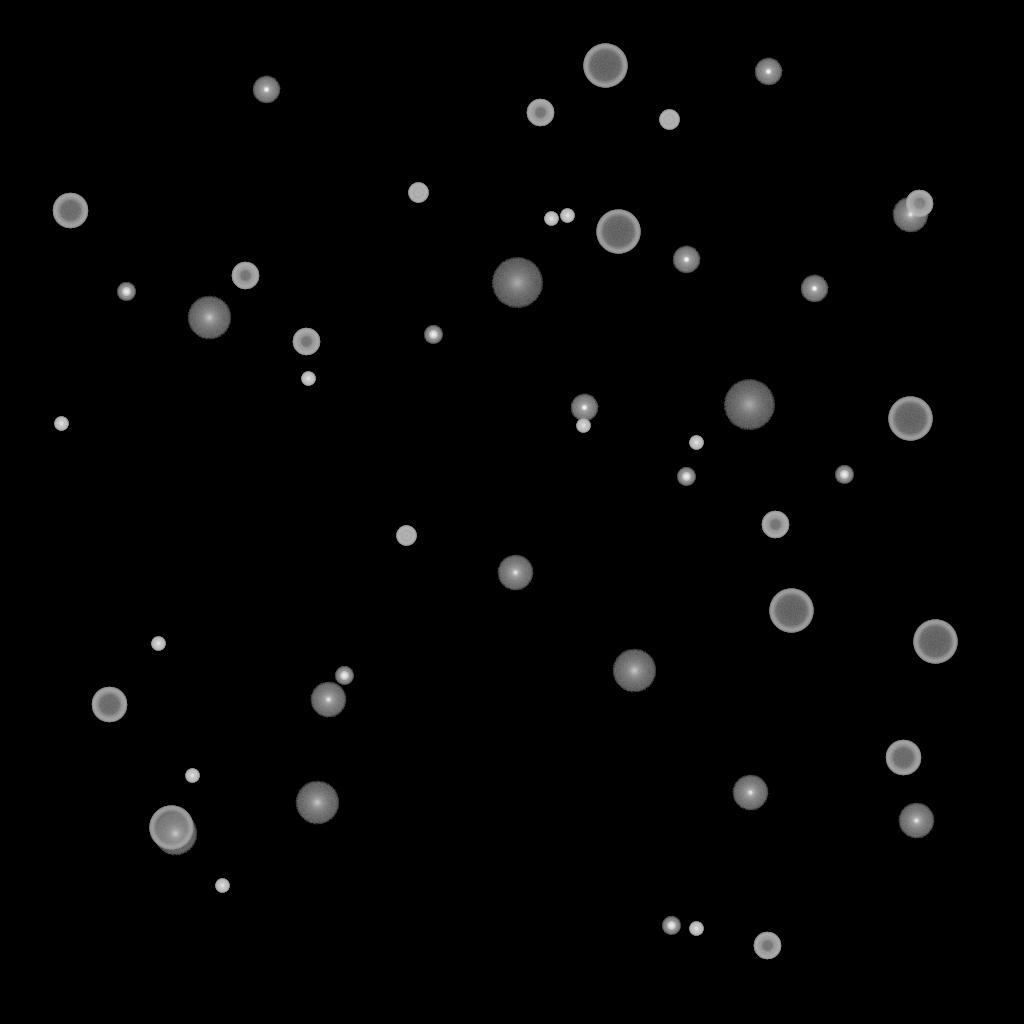depth:-10: (570, 394, 598, 422), (800, 275, 828, 303), (252, 76, 280, 104), (754, 58, 782, 86), (672, 246, 700, 274)
depth:-20: (335, 667, 353, 685), (677, 468, 695, 486), (424, 326, 442, 344), (662, 917, 680, 935), (117, 283, 135, 301), (835, 466, 853, 484)
depth:-30: (215, 879, 229, 893), (301, 372, 315, 386), (689, 922, 703, 936), (544, 212, 558, 226), (185, 769, 199, 783), (560, 209, 574, 223), (576, 419, 590, 433), (151, 637, 165, 651), (54, 417, 68, 431), (689, 436, 703, 450)
depth:-40: (408, 183, 428, 203), (659, 110, 679, 130), (396, 526, 416, 546)
depth:-50: (753, 932, 781, 960), (292, 328, 320, 356), (231, 262, 259, 290), (761, 511, 789, 539), (905, 190, 933, 218), (526, 99, 554, 127)
depth:-60: (885, 740, 921, 776), (52, 193, 88, 229), (91, 687, 127, 723)
depth:-70: (769, 589, 813, 633), (596, 210, 640, 254), (583, 44, 627, 88), (888, 397, 932, 441), (149, 806, 193, 850), (913, 620, 957, 664)
depth:0: (732, 775, 768, 811), (310, 682, 346, 718), (898, 803, 934, 839), (497, 555, 533, 591), (892, 197, 928, 233)
depth:10: (295, 781, 339, 825), (153, 812, 197, 856), (612, 649, 656, 693), (187, 296, 231, 340)
depth:20: (491, 258, 543, 308), (723, 380, 775, 430)
